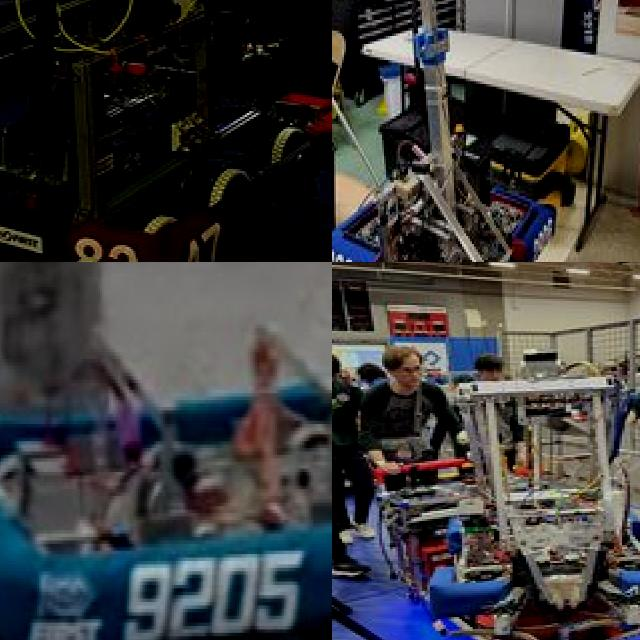FRC-Robots: (0, 262, 332, 640), (0, 0, 332, 262), (398, 340, 640, 600), (332, 0, 558, 262)
